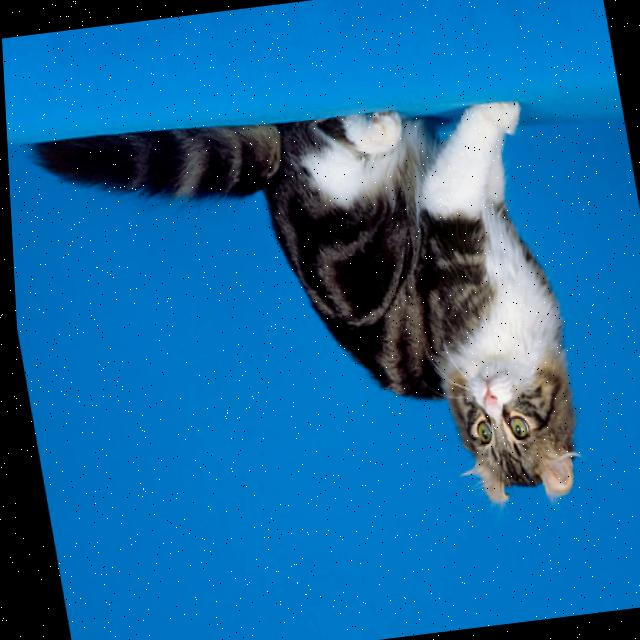American Curl: (16, 76, 596, 562)
